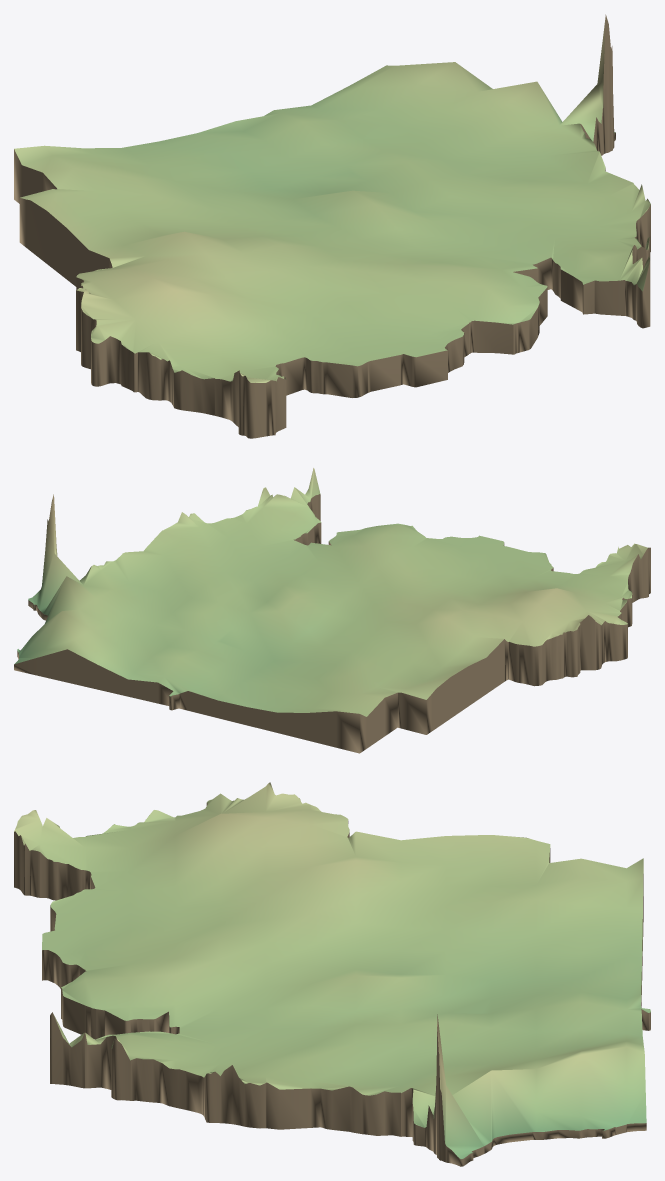
Rendered from SDN.glb.
3 views of the same model, one above another, from view 1: azimuth 30°, elevation 25°; view 2: azimuth 150°, elevation 25°; view 3: azimuth 270°, elevation 25° (orthographic). The views are drawn at different scales.
Visible parts, largest first — view 1: SDN; view 2: SDN; view 3: SDN.
Boxes of the visible parts, x1=… form: SDN: x1=14, y1=14, x2=650, y2=438; SDN: x1=14, y1=468, x2=650, y2=753; SDN: x1=14, y1=782, x2=650, y2=1166.
Bounding box in the file's own units: 1.64 × 0.338 × 1.37.
